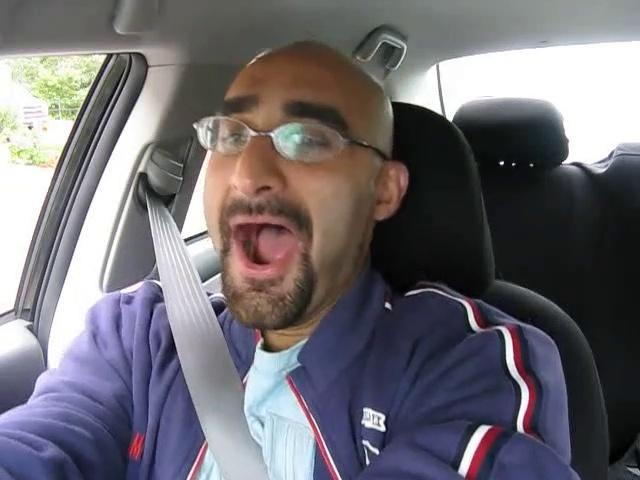close_eyeL: (201, 117, 265, 157)
close_eyeR: (267, 120, 353, 169)
yawn: (213, 202, 324, 287)
